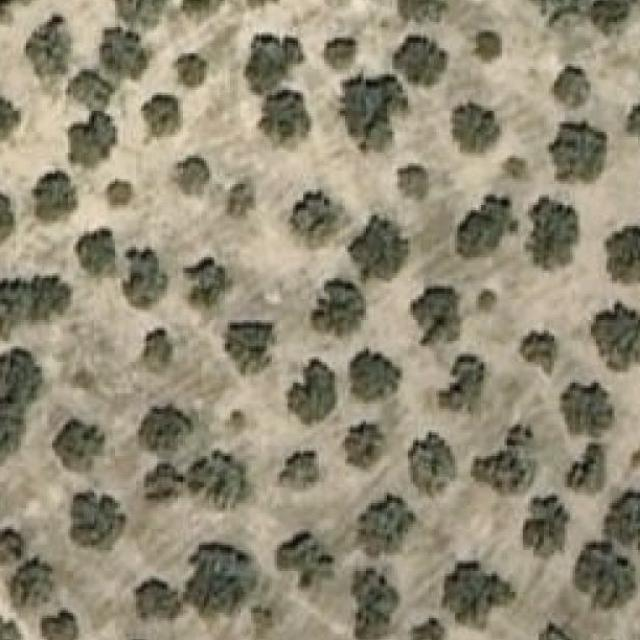Tree: (182, 540, 258, 621), (340, 69, 411, 153), (0, 350, 50, 468), (441, 560, 518, 632), (471, 424, 538, 498), (0, 273, 71, 339), (575, 534, 638, 608), (185, 451, 253, 516), (523, 198, 583, 270), (455, 194, 518, 260), (353, 492, 415, 558), (546, 119, 606, 185), (350, 214, 408, 282), (272, 531, 335, 592), (246, 32, 306, 93), (591, 299, 640, 372), (556, 383, 617, 440), (70, 489, 126, 550), (350, 569, 398, 640), (284, 360, 334, 428), (408, 433, 458, 499), (311, 281, 366, 339), (122, 244, 170, 310), (138, 404, 201, 454), (98, 27, 154, 83), (523, 496, 570, 562), (392, 35, 450, 88), (25, 12, 70, 80), (222, 320, 277, 375), (410, 286, 460, 346), (436, 354, 483, 414), (52, 419, 105, 472), (183, 255, 233, 311), (350, 346, 400, 402), (68, 114, 118, 169), (452, 103, 499, 156), (76, 229, 120, 284), (264, 88, 310, 140), (290, 187, 334, 240), (10, 555, 52, 608), (34, 170, 78, 220), (604, 489, 640, 549), (277, 448, 327, 491), (342, 422, 384, 470), (135, 580, 180, 624), (567, 446, 606, 496), (141, 95, 181, 142), (518, 328, 557, 376), (65, 69, 115, 106), (607, 228, 640, 284), (588, 0, 638, 36), (143, 461, 183, 506), (554, 67, 591, 112), (110, 0, 170, 27), (394, 0, 450, 25), (172, 53, 206, 88), (0, 522, 26, 567), (42, 609, 79, 640), (397, 163, 427, 200), (143, 328, 173, 365), (408, 613, 447, 640), (0, 96, 21, 146), (471, 30, 502, 62), (0, 192, 16, 248), (538, 0, 588, 17), (225, 184, 254, 213), (542, 620, 584, 640), (324, 38, 356, 64), (180, 0, 227, 17), (0, 609, 24, 640), (475, 289, 499, 318), (180, 163, 206, 189), (106, 182, 130, 206), (501, 158, 525, 179), (630, 448, 640, 469), (242, 0, 292, 4)
